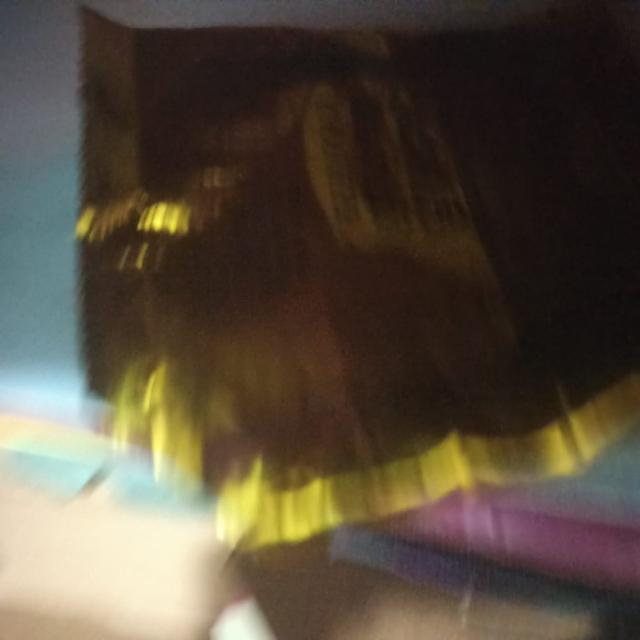Harischandra Coffee: (36, 0, 640, 537)
